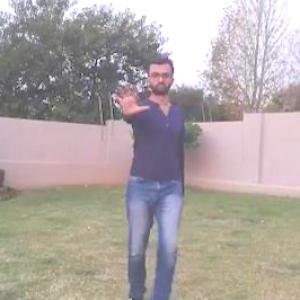follow_hand: (109, 71, 150, 117)
